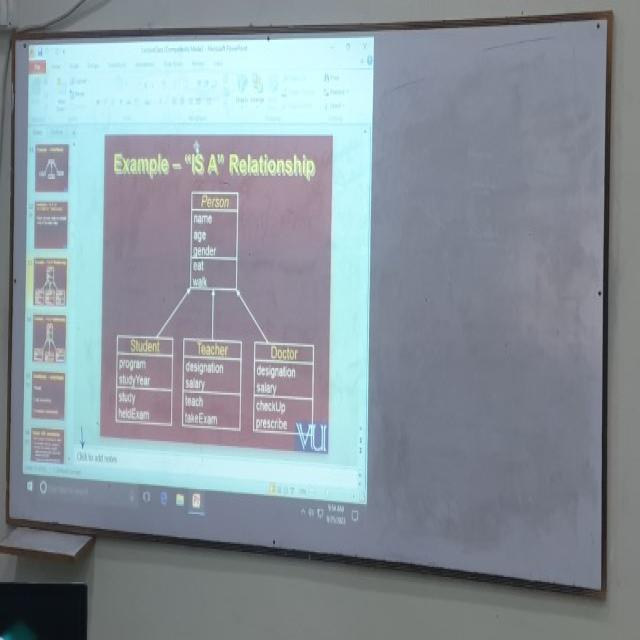Slide: (23, 31, 377, 529)
White-board: (6, 20, 611, 594)
